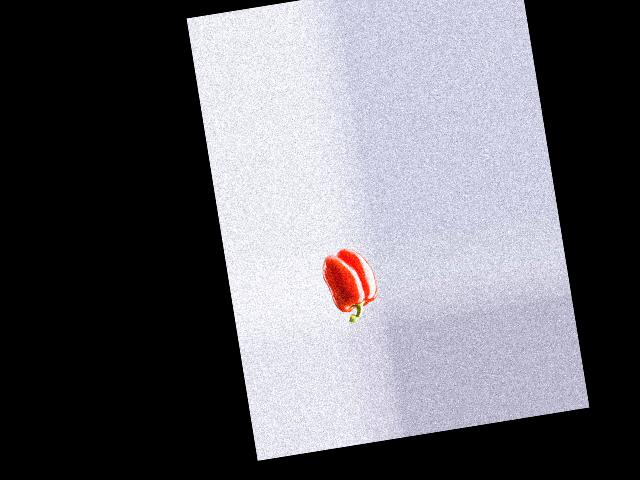bell_pepper: (318, 246, 384, 326)
